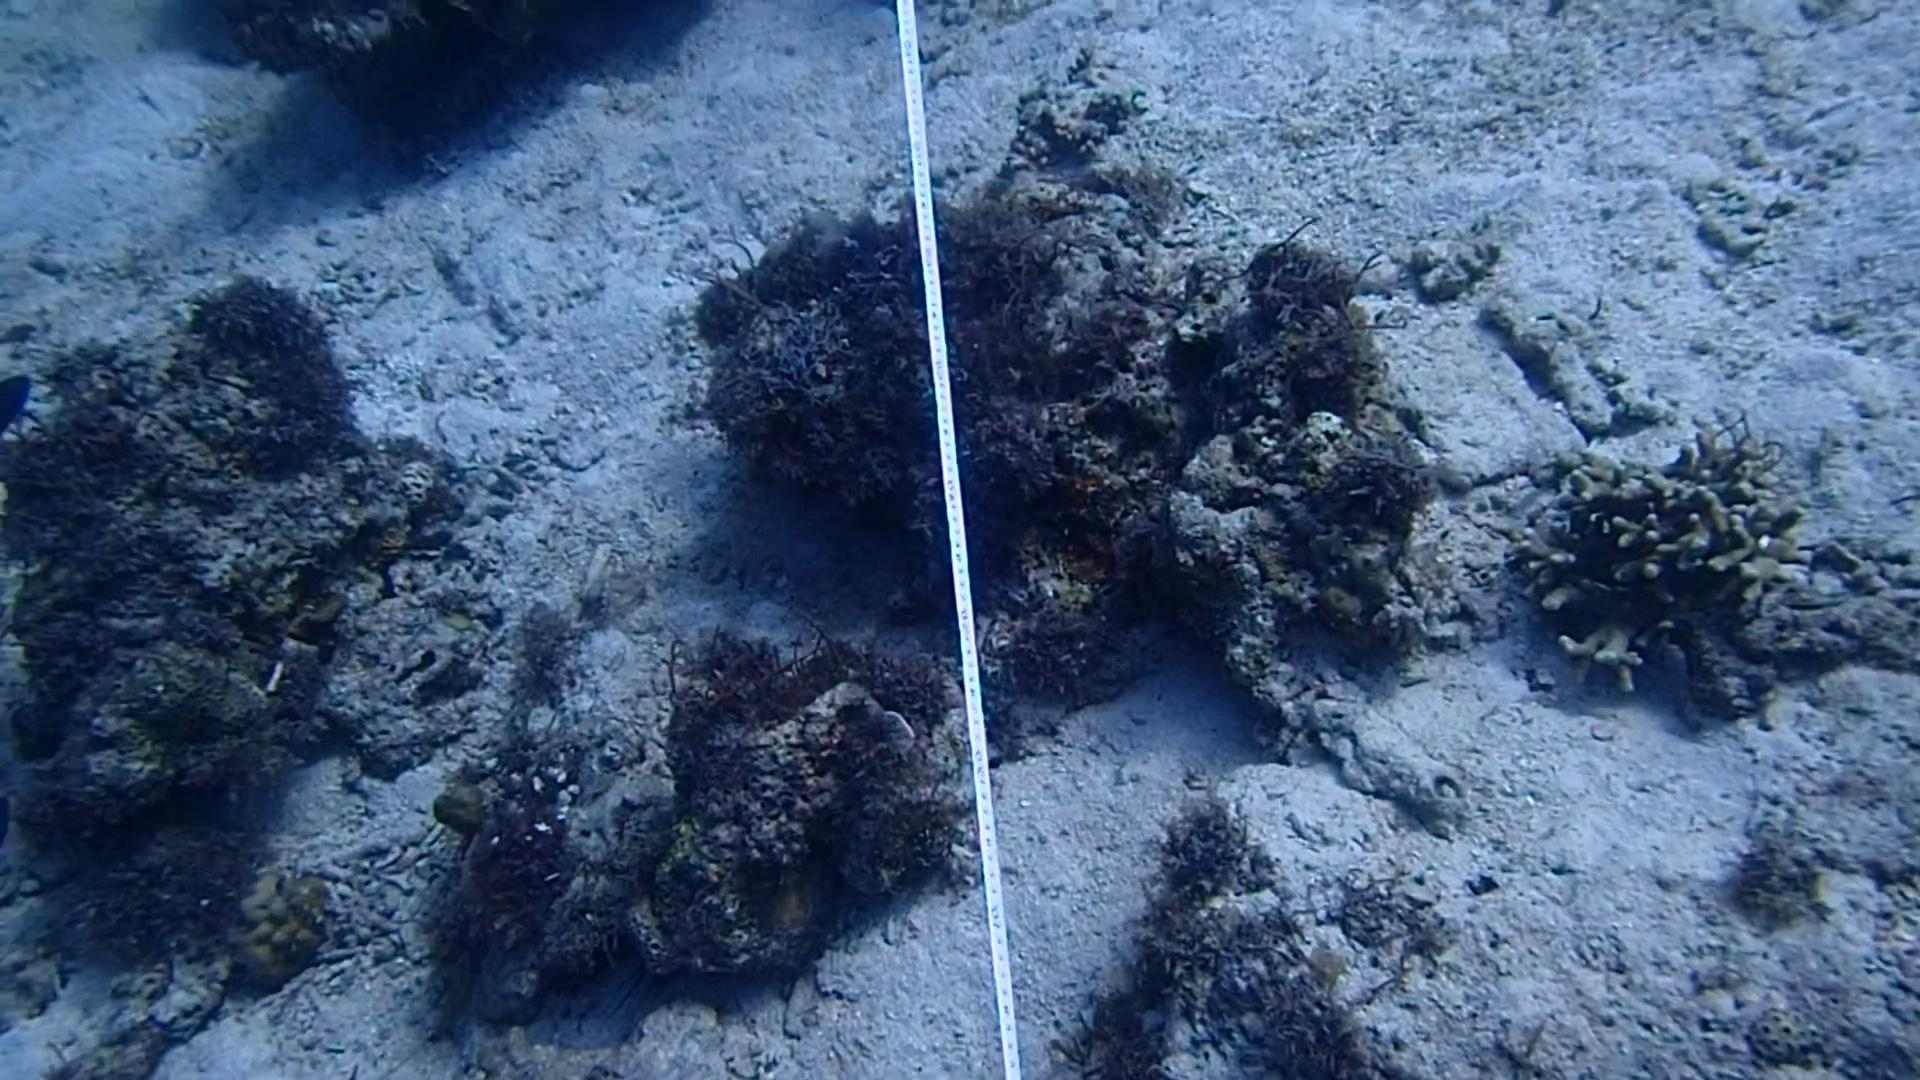Dark Fish: (0, 357, 45, 450)
